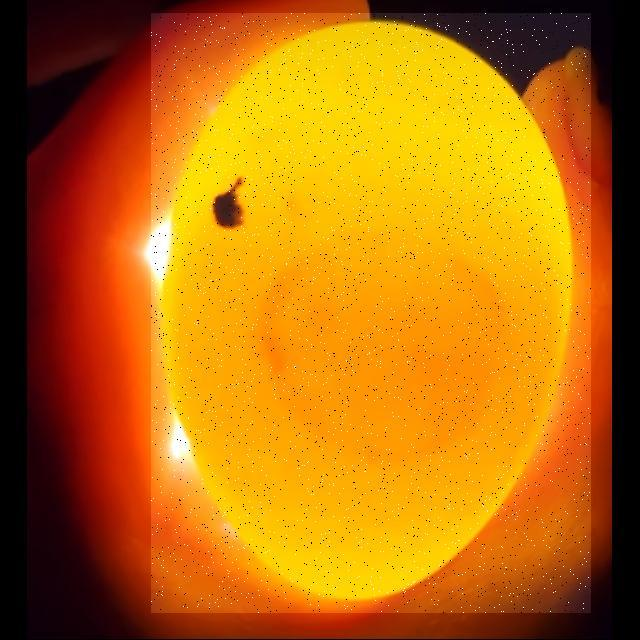Infertile: (151, 13, 591, 613)
